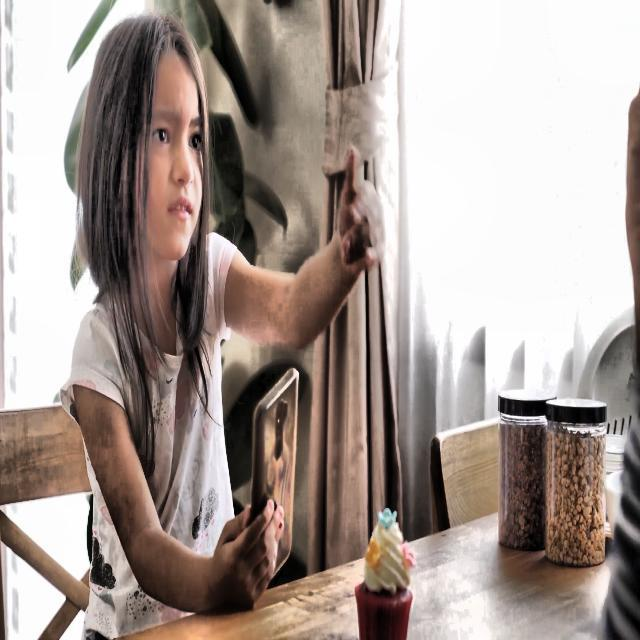Phone: (247, 364, 300, 589)
